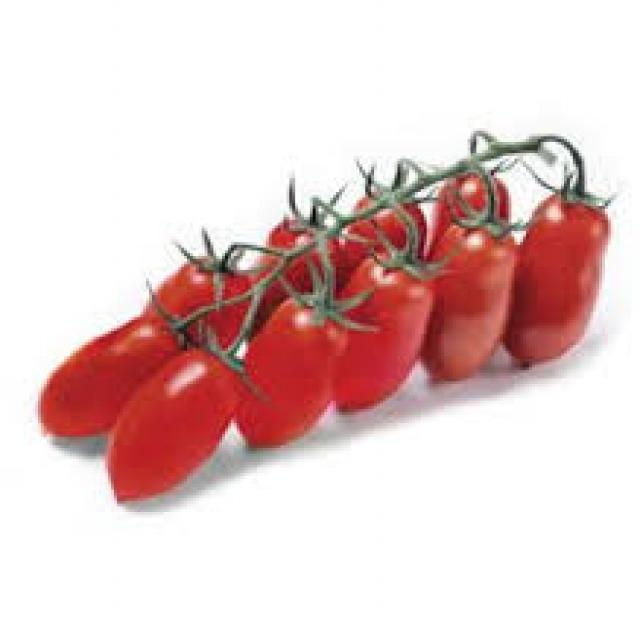organic waste: (102, 336, 237, 504), (35, 312, 190, 437), (511, 190, 608, 378), (336, 242, 433, 420), (240, 292, 339, 454), (427, 212, 511, 392), (146, 253, 249, 365), (342, 189, 430, 312), (254, 214, 345, 326), (432, 164, 508, 259)
